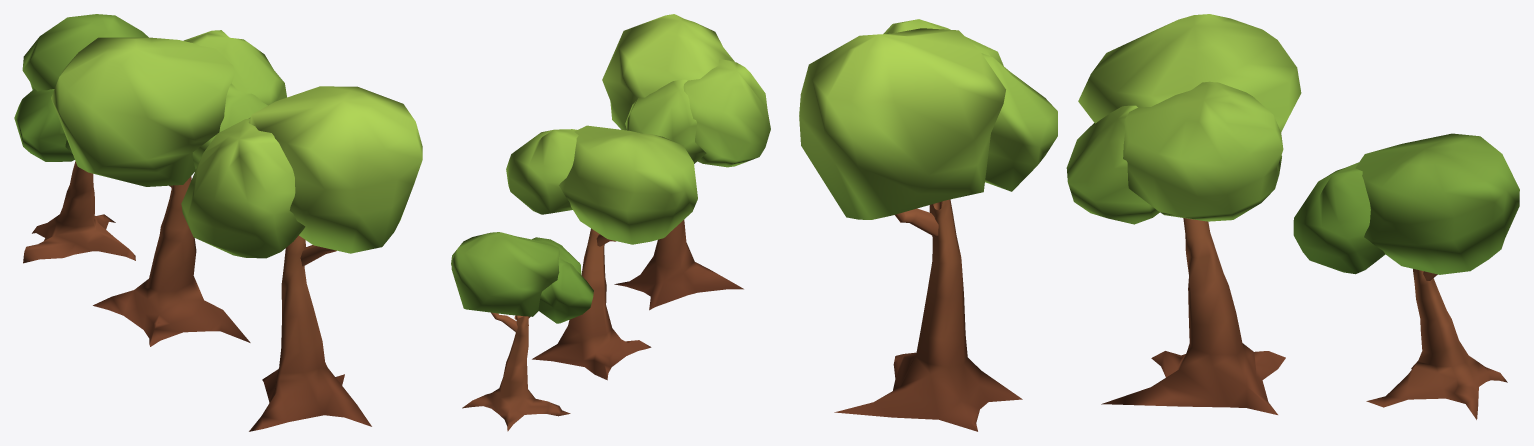
Rendered from tree.fbx.
3 views of the same model, side by side, from view 1: azimuth 30°, elevation 25°; view 2: azimuth 150°, elevation 25°; view 3: azimuth 270°, elevation 25° (orthographic). The views are drawn at different scales.
Visible parts, largest first — view 1: tree; view 2: tree; view 3: tree.
Part boxes in pixels (<box>): tree: <box>14,14,422,431</box>; tree: <box>451,14,770,431</box>; tree: <box>799,14,1519,431</box>.
Bounding box in the file's own units: 47.49 × 65.39 × 113.
Materials: 1 (1 with a texture image).
